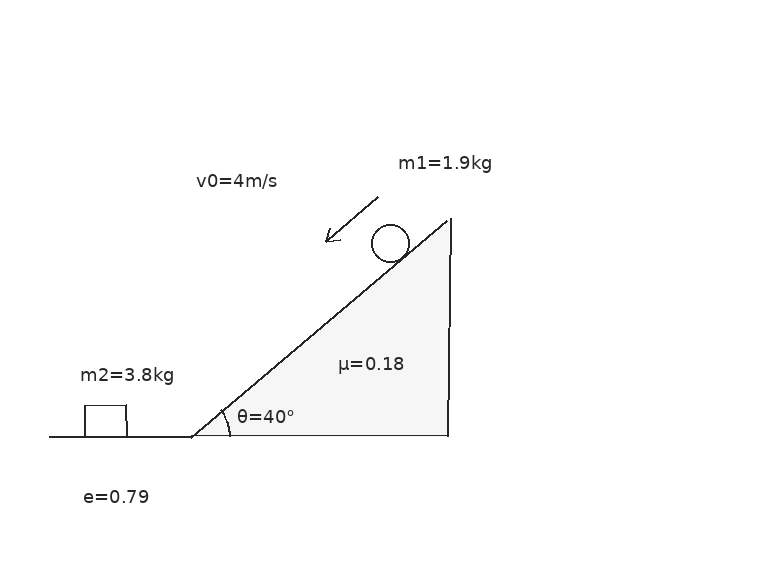ball: (369, 222, 411, 264)
block: (82, 403, 128, 438)
ramp: (188, 217, 450, 438)
